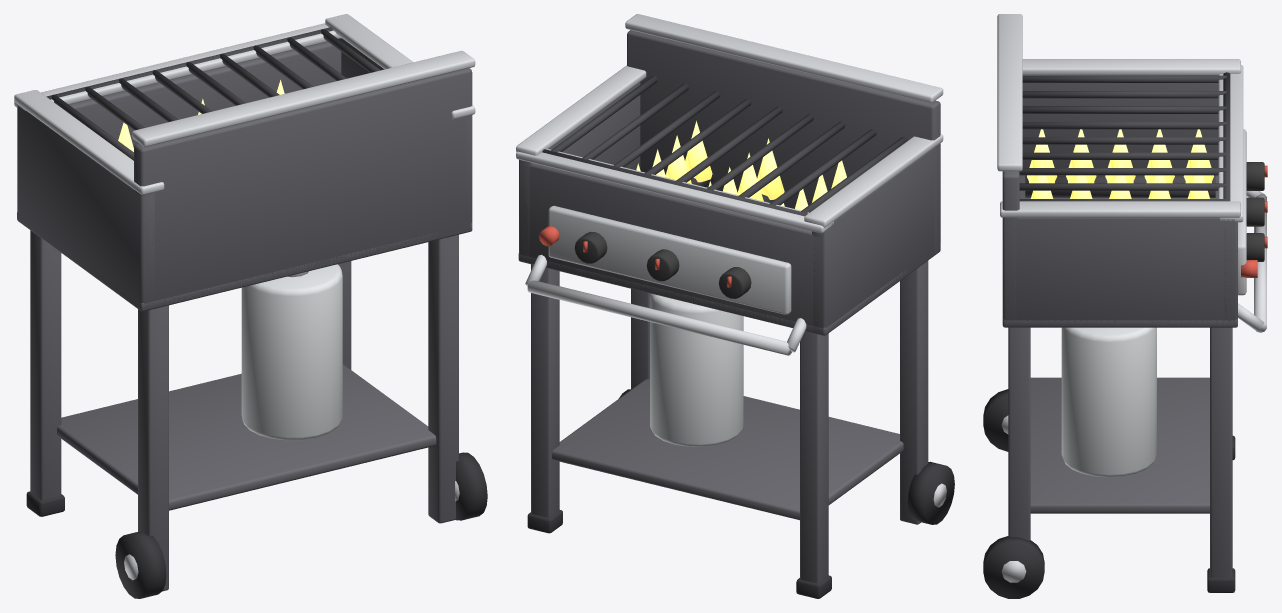
Rendered from gasgrill.glb.
3 views of the same model, side by side, from view 1: azimuth 30°, elevation 25°; view 2: azimuth 150°, elevation 25°; view 3: azimuth 270°, elevation 25° (orthographic). The views are drawn at different scales.
Parts seen in each view (by area): view 1: Gasgrill; view 2: Gasgrill, FlammenMesh; view 3: Gasgrill, FlammenMesh.
Boxes of the visible parts, left/top/right/bottom form: Gasgrill: left=14, top=14, right=487, bottom=598; Gasgrill: left=516, top=14, right=954, bottom=598; FlammenMesh: left=636, top=120, right=846, bottom=210; Gasgrill: left=983, top=14, right=1267, bottom=598; FlammenMesh: left=1027, top=129, right=1213, bottom=198.
Size of the model in its own units: 0.66 by 0.8525 by 0.508.
